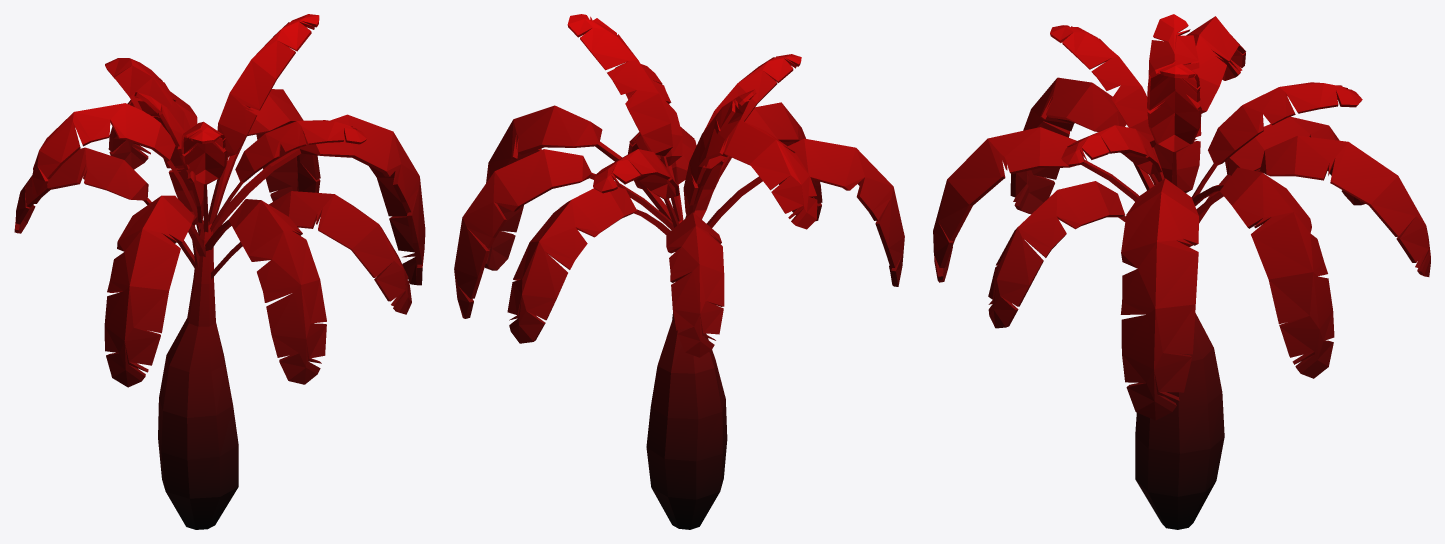
The model's file is TreePalmLarge05.fbx.
3 renders of one model, left to right at view 1: azimuth 30°, elevation 25°; view 2: azimuth 150°, elevation 25°; view 3: azimuth 270°, elevation 25°, orthographic. The views are drawn at different scales.
Visible parts, largest first — view 1: TreePalmLarge05_LOD0; view 2: TreePalmLarge05_LOD0; view 3: TreePalmLarge05_LOD0.
Boxes of the visible parts, bbox=[...] form: TreePalmLarge05_LOD0: bbox=[14, 14, 425, 529]; TreePalmLarge05_LOD0: bbox=[454, 14, 904, 529]; TreePalmLarge05_LOD0: bbox=[933, 14, 1430, 529].
Size of what is drawn, in the model's own units: 262 by 329 by 291.
